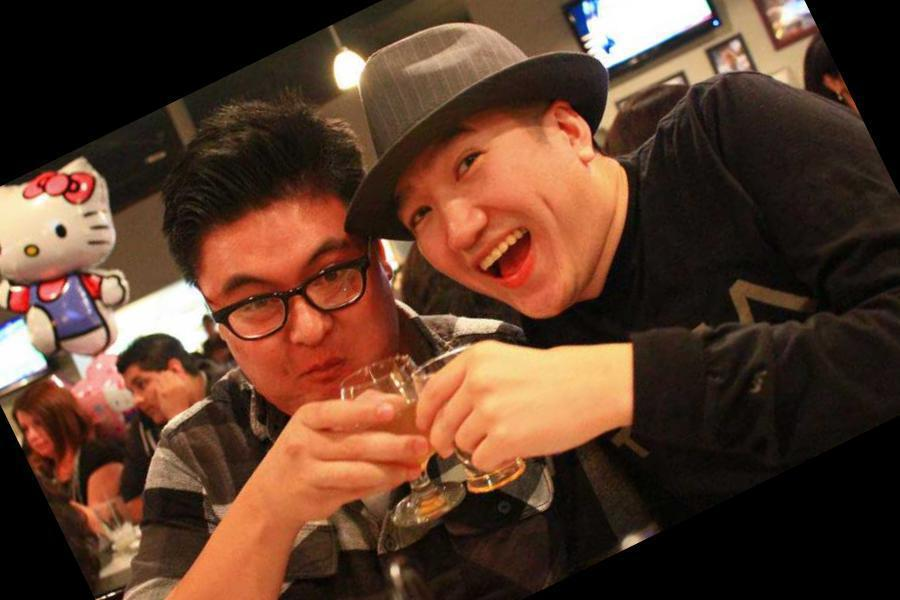Drunk: (199, 209, 394, 386), (409, 137, 590, 318)
